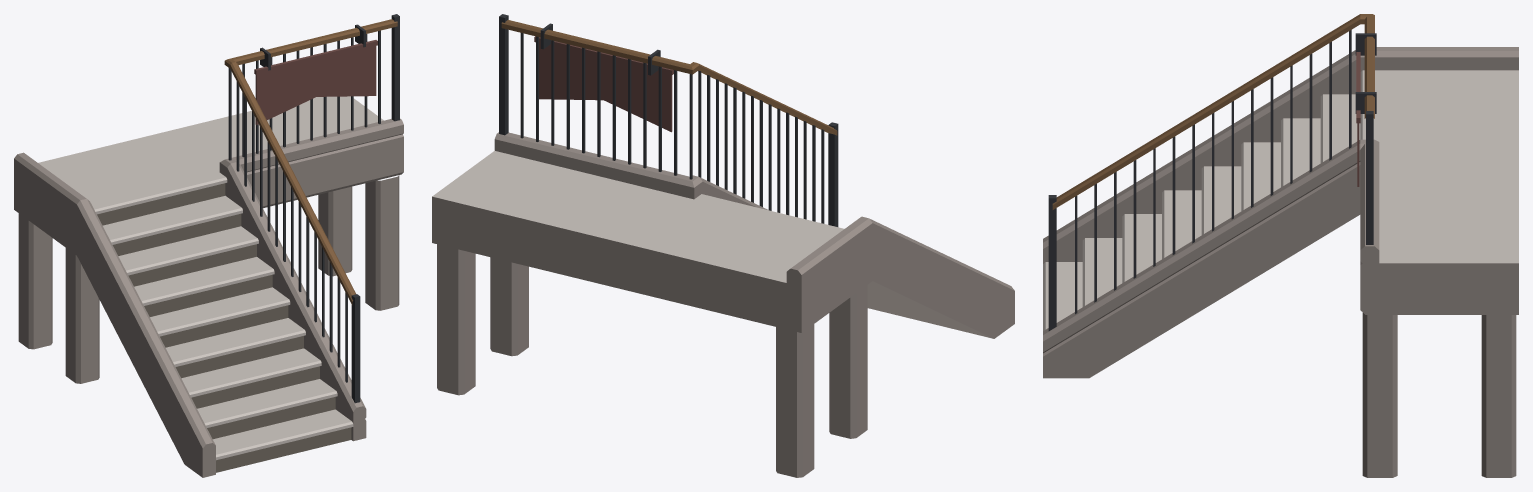
Rendered from stair-core-flight-35426d.glb.
The picture shows the model from 3 angles, left to right: view 1: azimuth 30°, elevation 25°; view 2: azimuth 150°, elevation 25°; view 3: azimuth 270°, elevation 25°; orthographic projection. The views are drawn at different scales.
Parts seen in each view (by area): view 1: stair; view 2: stair; view 3: stair.
Part boxes in pixels (x1,y1,x2,y2): stair: [14, 14, 403, 477]; stair: [432, 14, 1014, 477]; stair: [1043, 14, 1518, 477].
Size of the model in its own units: 3 by 2.53 by 3.
